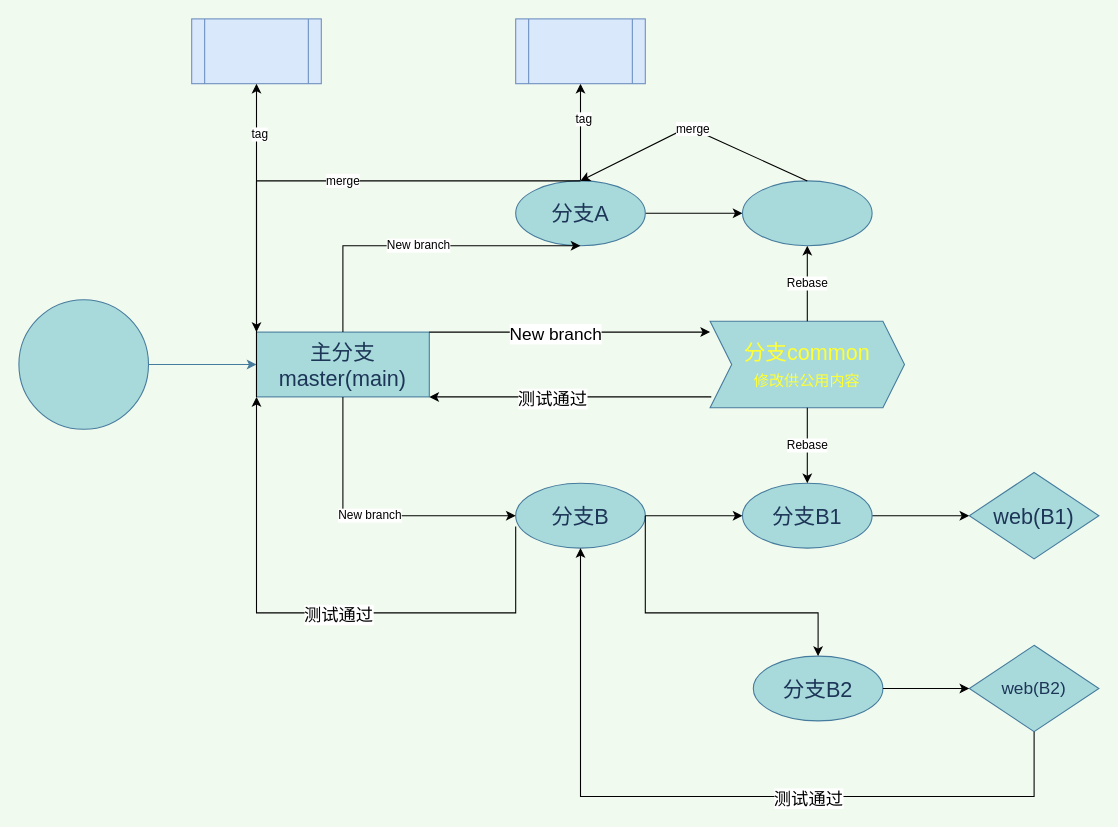
Some shapes in this 1118 by 827 pixel diagram are drawn without their labels. The shapes that lost their labels are listed below. From the top down, each one's centre as x and y in pixels, then its label:
At pixel 256 51: "版本：0.0.1".
At pixel 580 51: "版本0.0.2".
At pixel 806 213: "分支A1".
At pixel 83 364: "Git使用流程".
